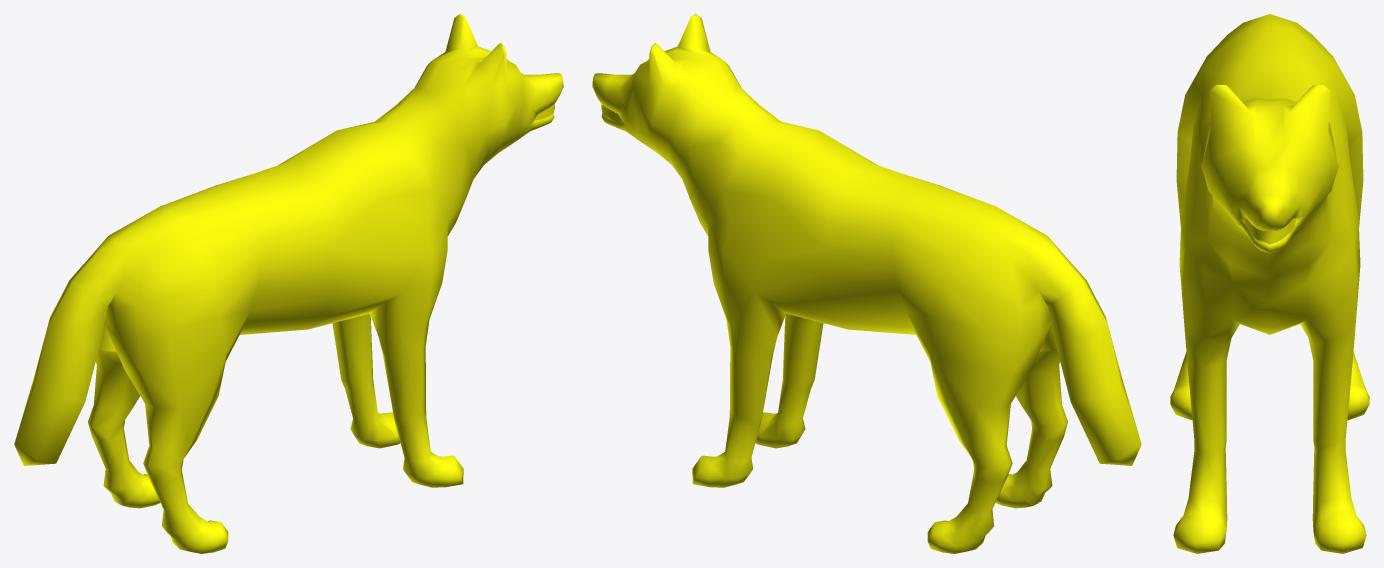
The model's file is wolf.glb.
3 views of the same model, side by side, from view 1: azimuth 30°, elevation 25°; view 2: azimuth 150°, elevation 25°; view 3: azimuth 270°, elevation 25° (orthographic). The views are drawn at different scales.
Visible parts, largest first — view 1: wolf; view 2: wolf; view 3: wolf, donji zubi01.
Boxes of the visible parts, <box> form: wolf: <box>14,14,563,553</box>; wolf: <box>592,14,1141,553</box>; wolf: <box>1170,14,1369,553</box>; donji zubi01: <box>1244,218,1296,243</box>.
Bounding box in the file's own units: 0.1133 × 0.0835 × 0.0297.
Materials: 2 (2 with a texture image).
